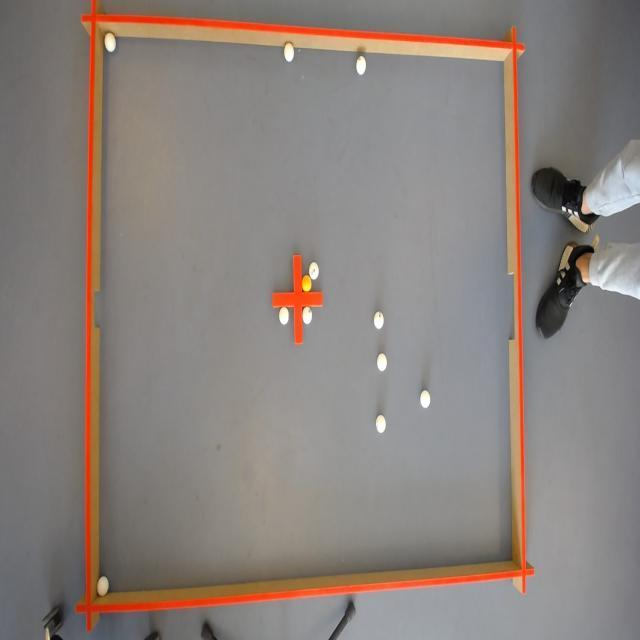orange: (302, 275, 311, 292)
white: (374, 412, 388, 434), (282, 42, 295, 63), (95, 576, 108, 596), (418, 389, 430, 409), (376, 353, 388, 373), (372, 309, 384, 329), (102, 34, 114, 52), (278, 306, 288, 326), (302, 306, 313, 324), (356, 56, 367, 74), (308, 261, 318, 278)
